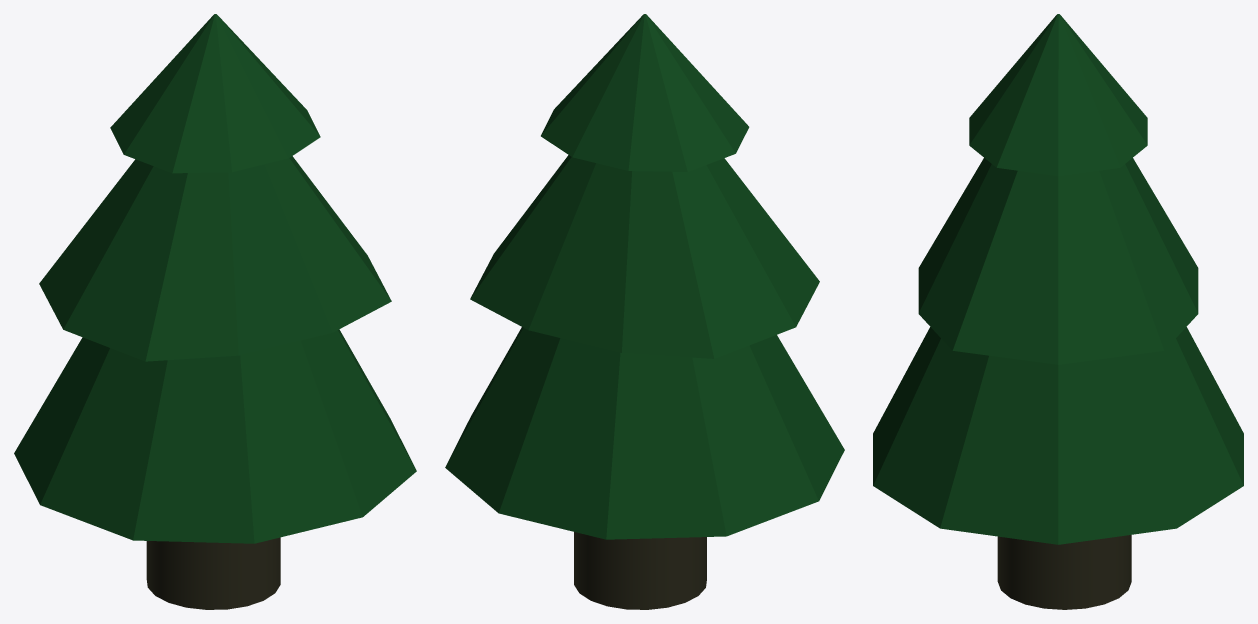
The model's file is ttree.fbx.
The picture shows the model from 3 angles, left to right: view 1: azimuth 30°, elevation 25°; view 2: azimuth 150°, elevation 25°; view 3: azimuth 270°, elevation 25°; orthographic projection.
Parts seen in each view (by area): view 1: pCylinder1, pCylinder2; view 2: pCylinder1, pCylinder2; view 3: pCylinder1, pCylinder2.
Boxes of the visible parts, x1,y1,x2,y2 form: pCylinder1: [14, 14, 416, 543]; pCylinder2: [146, 537, 280, 609]; pCylinder1: [445, 14, 844, 539]; pCylinder2: [574, 532, 706, 609]; pCylinder1: [873, 14, 1243, 544]; pCylinder2: [997, 535, 1131, 609].
Size of the model in its own units: 1.46 by 2.26 by 1.34.
